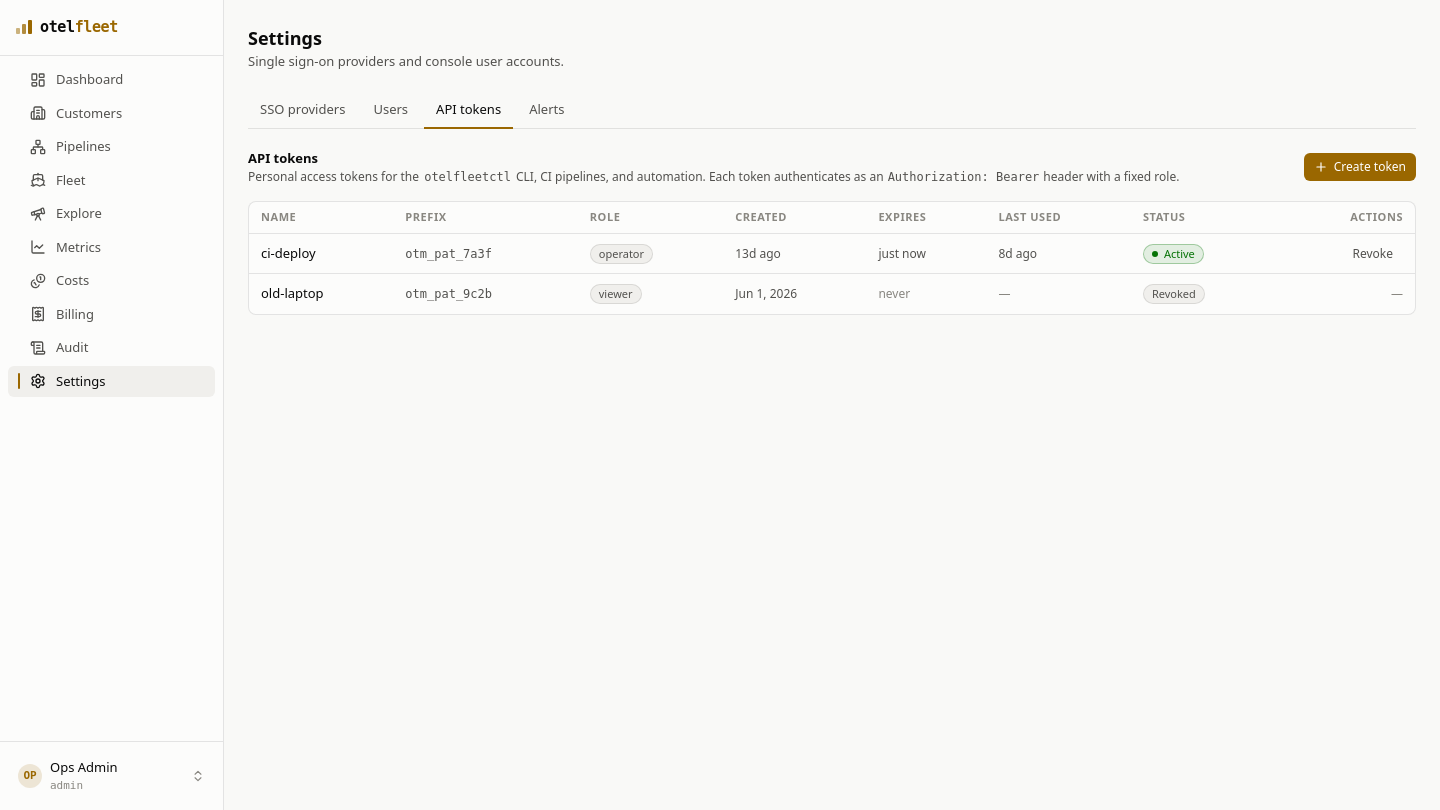
/settings?tab=tokens › renders the tokens table with role/status badges and opens the create dialog
This screenshot has width=1440, height=810.
Expected: the text "ci-deploy" is shown, [249,234,393,274]
Expected: the text "old-laptop" is shown, [249,274,393,314]
# Create dialog opens with the role radios.
Click the button "Create token" at x=1360, y=167, box [1304,153,1416,181]
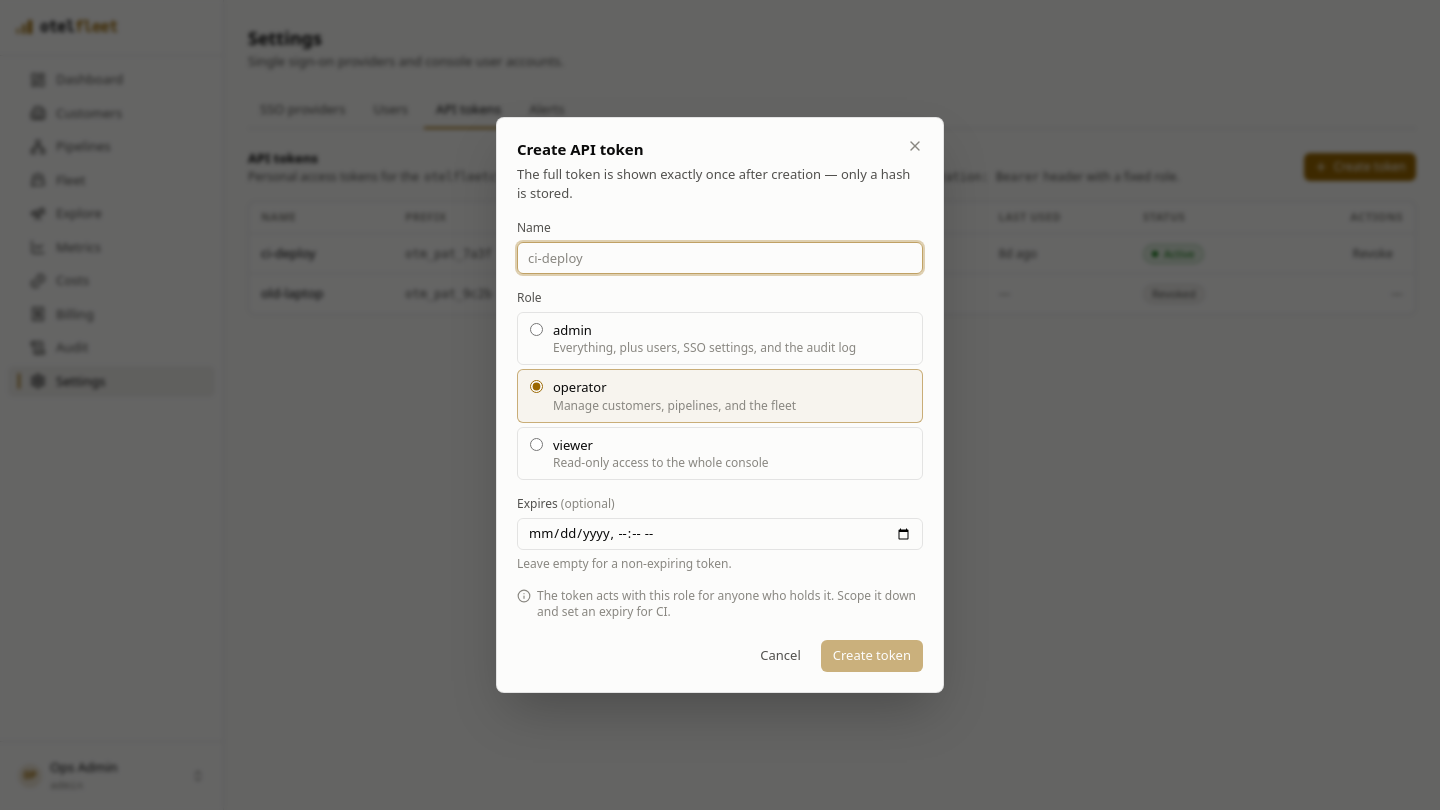
Expected: the dialog is shown, [496,117,944,693]
Expected: the field labelled "Name" is shown, [517,242,923,274]
Expected: the radio button labelled "admin" is shown, [530,322,543,336]
